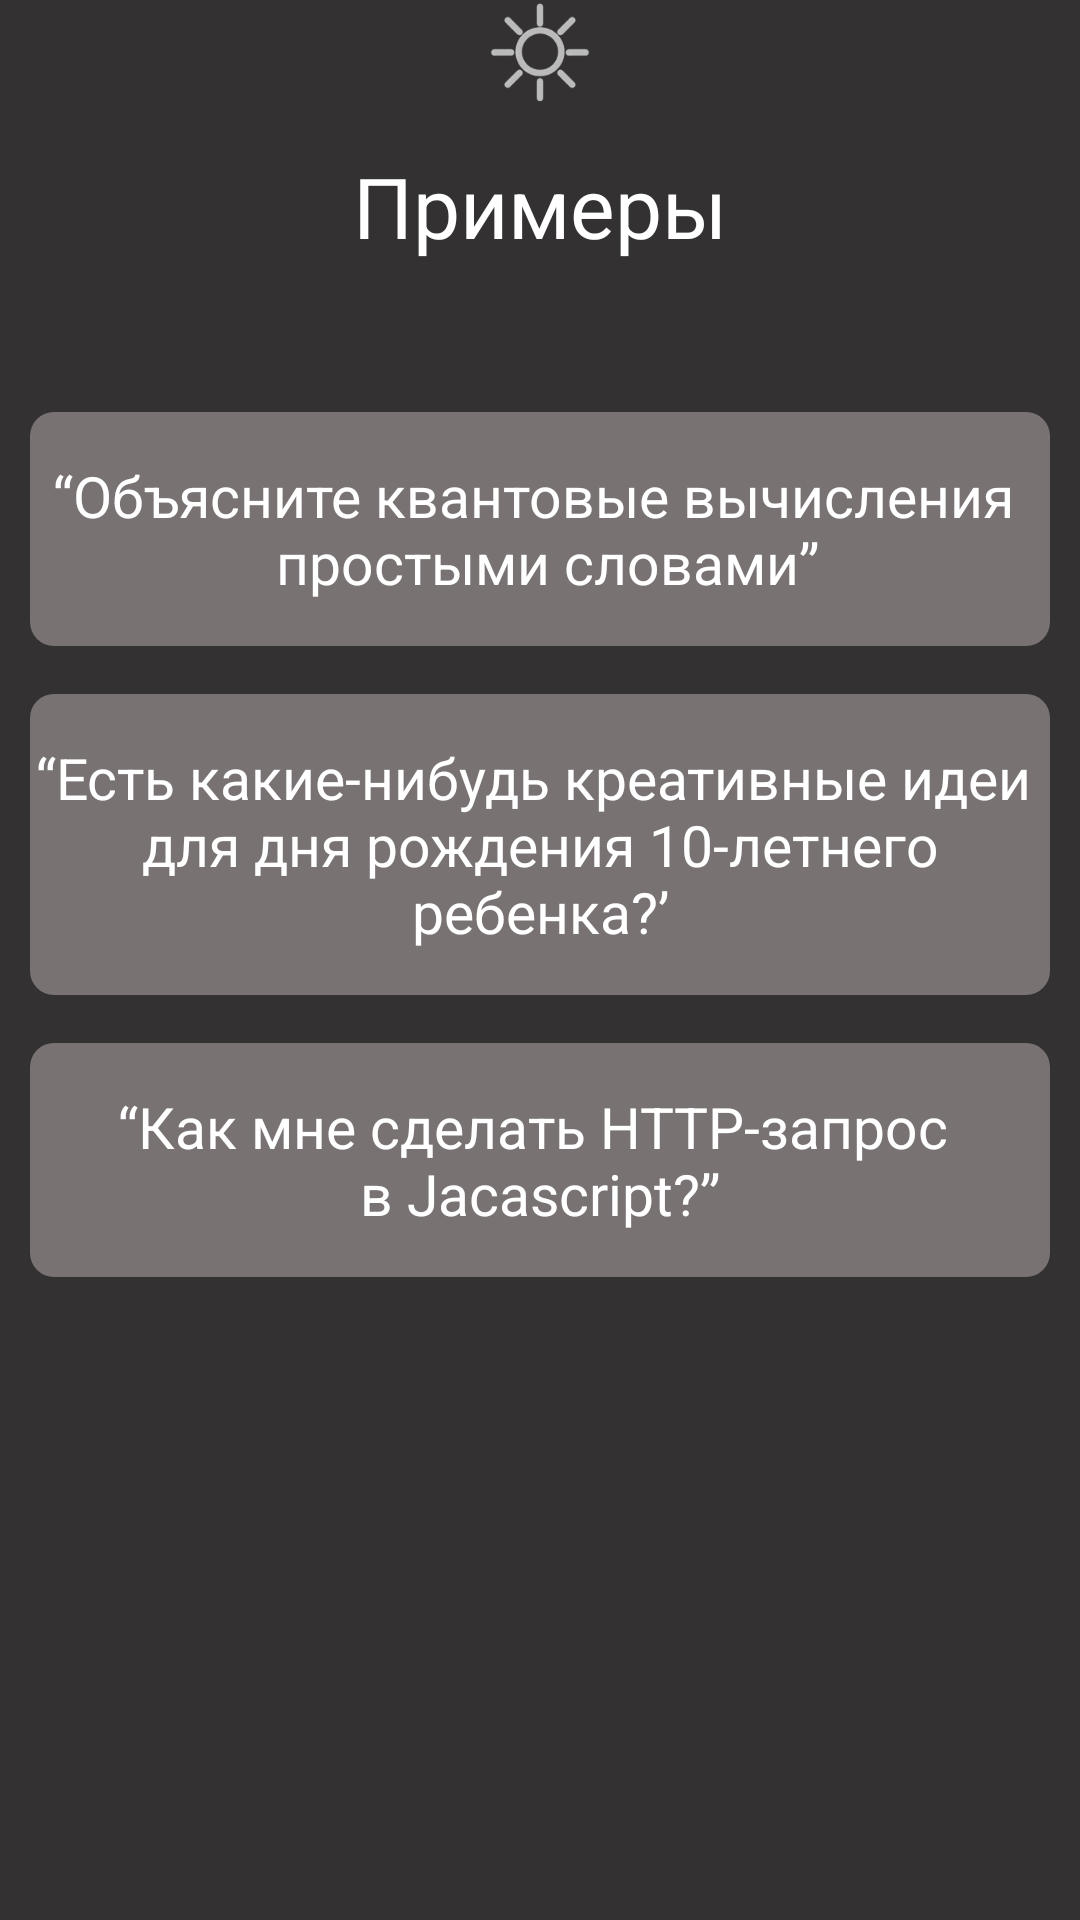

Icon bounding boxes for this 1080x1920 phone screenshot, format (x1, y1, x2, y2):
sun: (491, 3, 589, 101)
